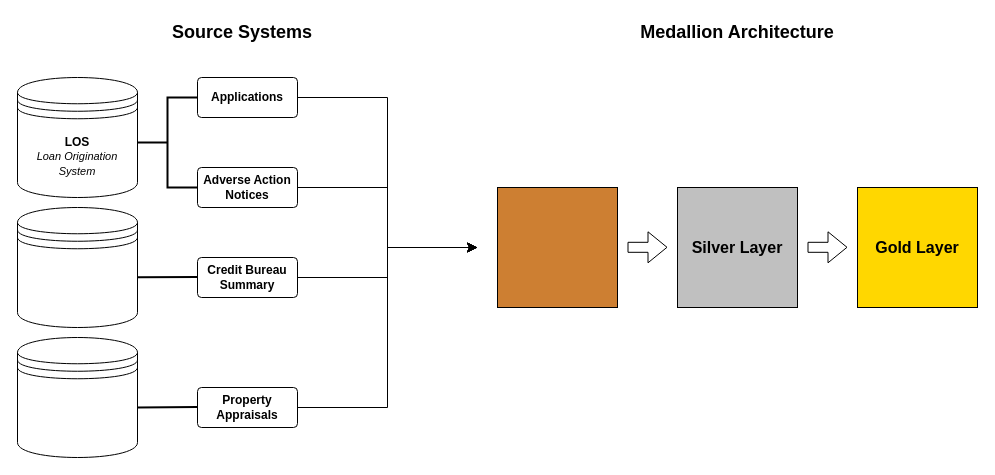
The diagram is 995 pixels wide and 475 high, and some of its shapes have lost their labels. The centre of each missing label's shape, as x and y in pixels:
"AMC/AVC Appraisal Management Company/ Automated Valuation Model" goes at point (77, 397).
"Bronze Layer" goes at point (557, 247).
"CRA Credit Reporting Agency" goes at point (77, 267).
